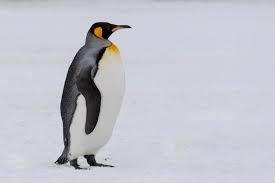king: (43, 15, 148, 173)
